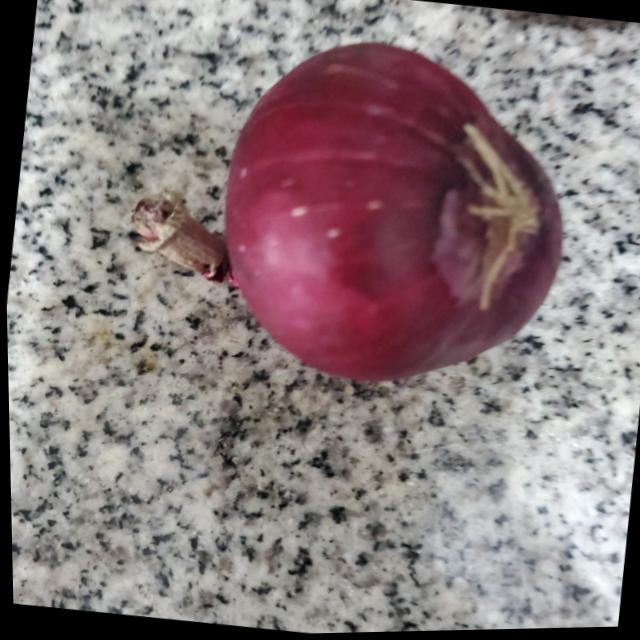onion: (119, 14, 586, 397)
